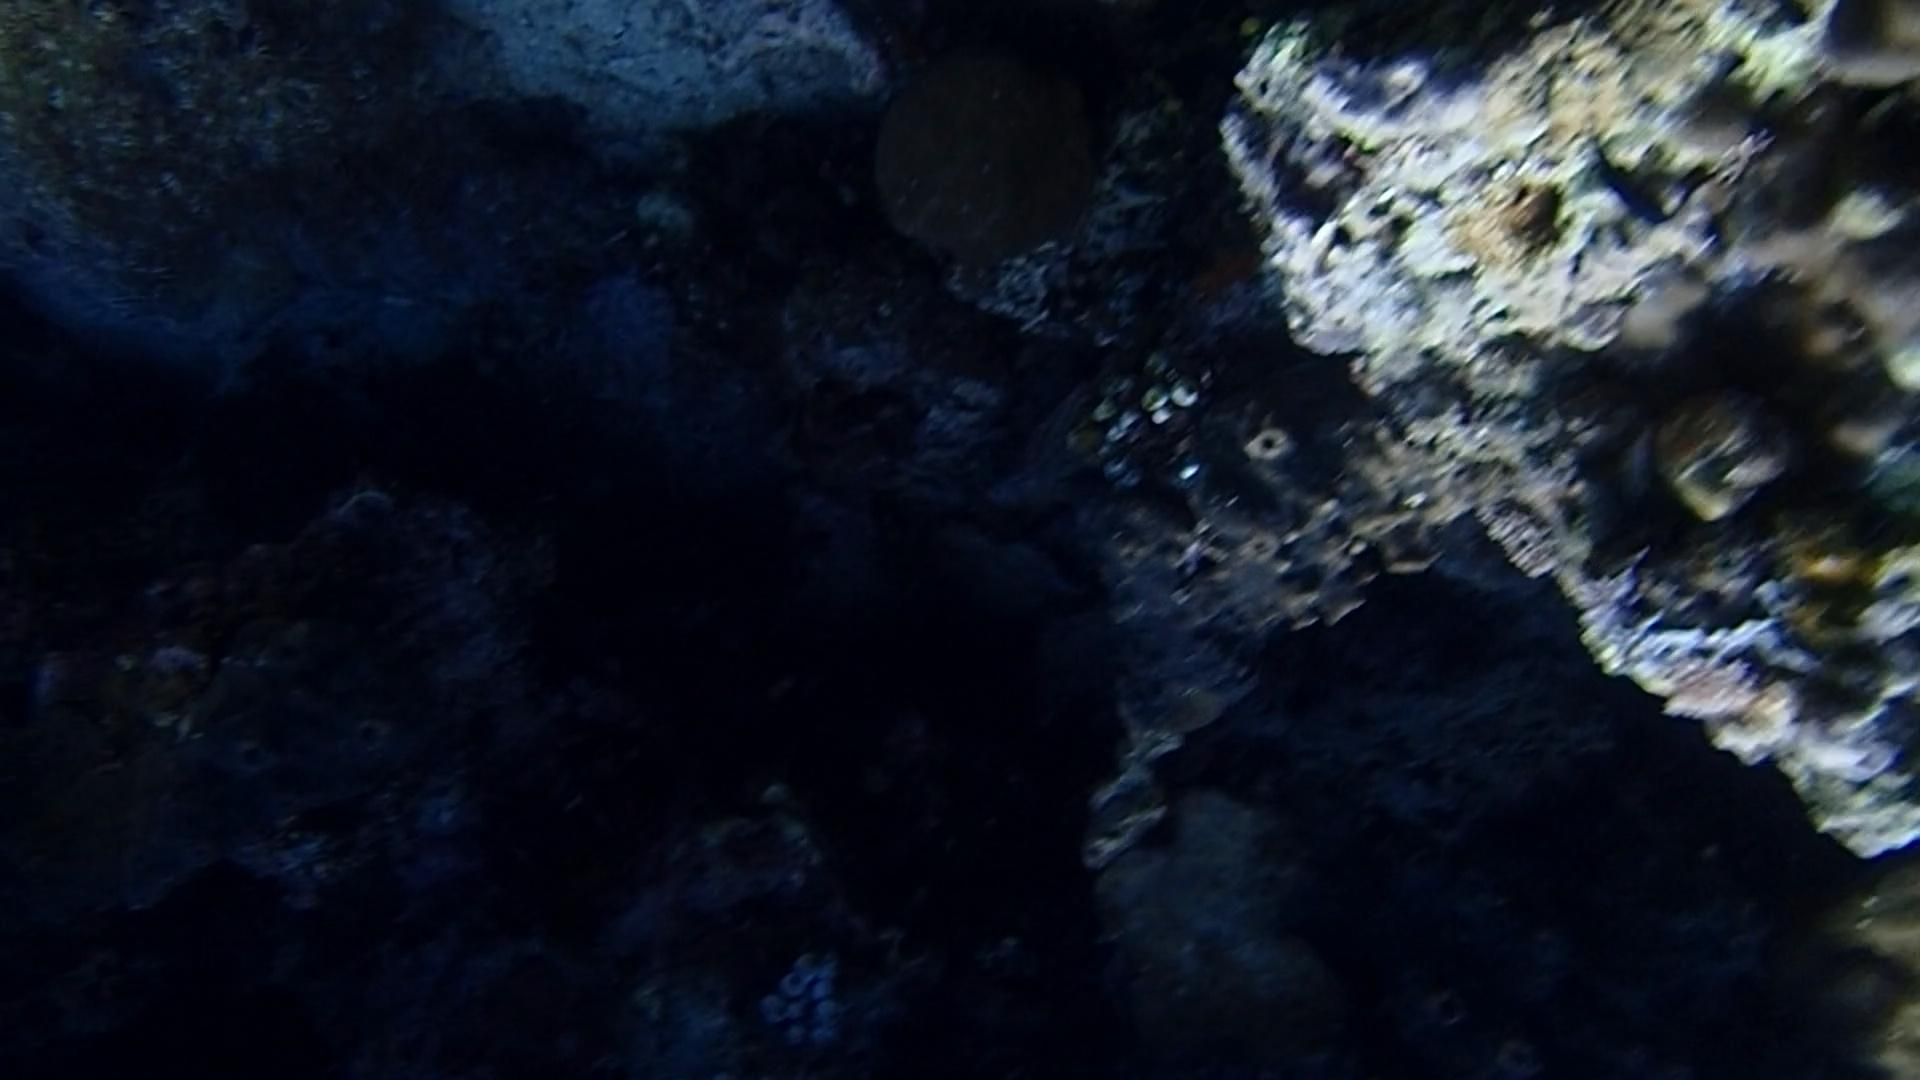Dark Fish: (1577, 137, 1689, 241)
